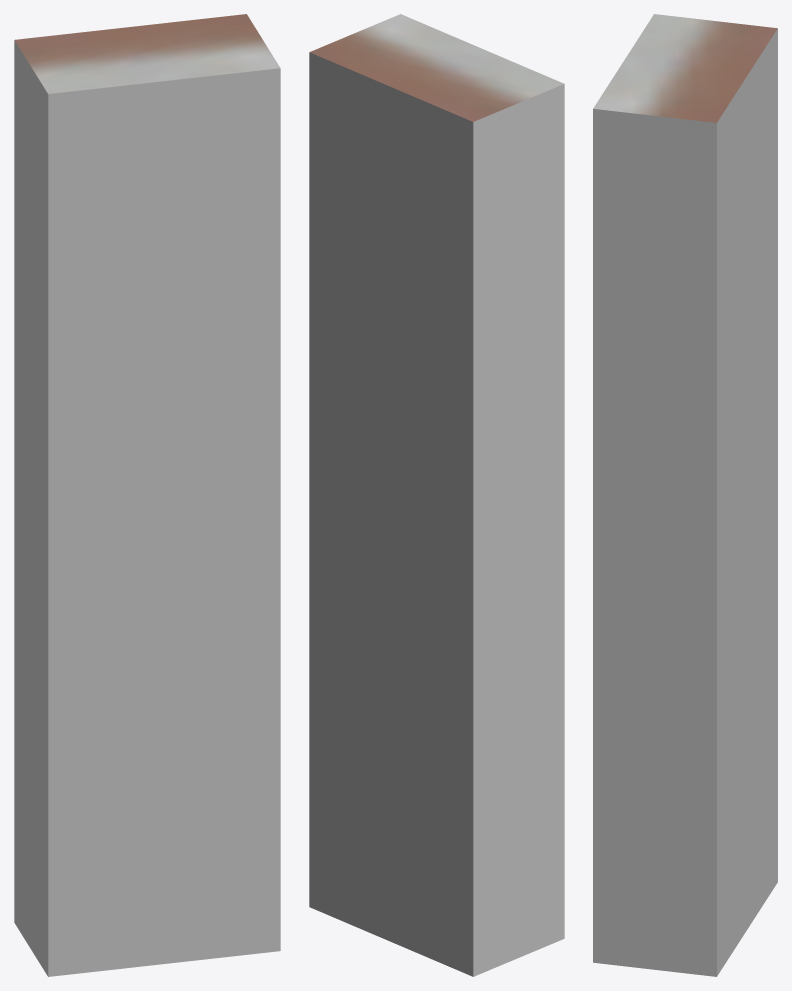
File: DEBW_0010007THXh.gltf
3 renders of one model, left to right at view 1: azimuth 30°, elevation 25°; view 2: azimuth 150°, elevation 25°; view 3: azimuth 270°, elevation 25°, orthographic. The views are drawn at different scales.
Visible parts, largest first — view 1: Z_UP; view 2: Z_UP; view 3: Z_UP.
Boxes of the visible parts, box(x1,y1,x2,y2) form: Z_UP: box(14, 14, 280, 976); Z_UP: box(309, 14, 564, 976); Z_UP: box(593, 14, 777, 976).
Bounding box in the file's own units: 3.21 × 11.72 × 2.3.
2 materials, 1 textured.
